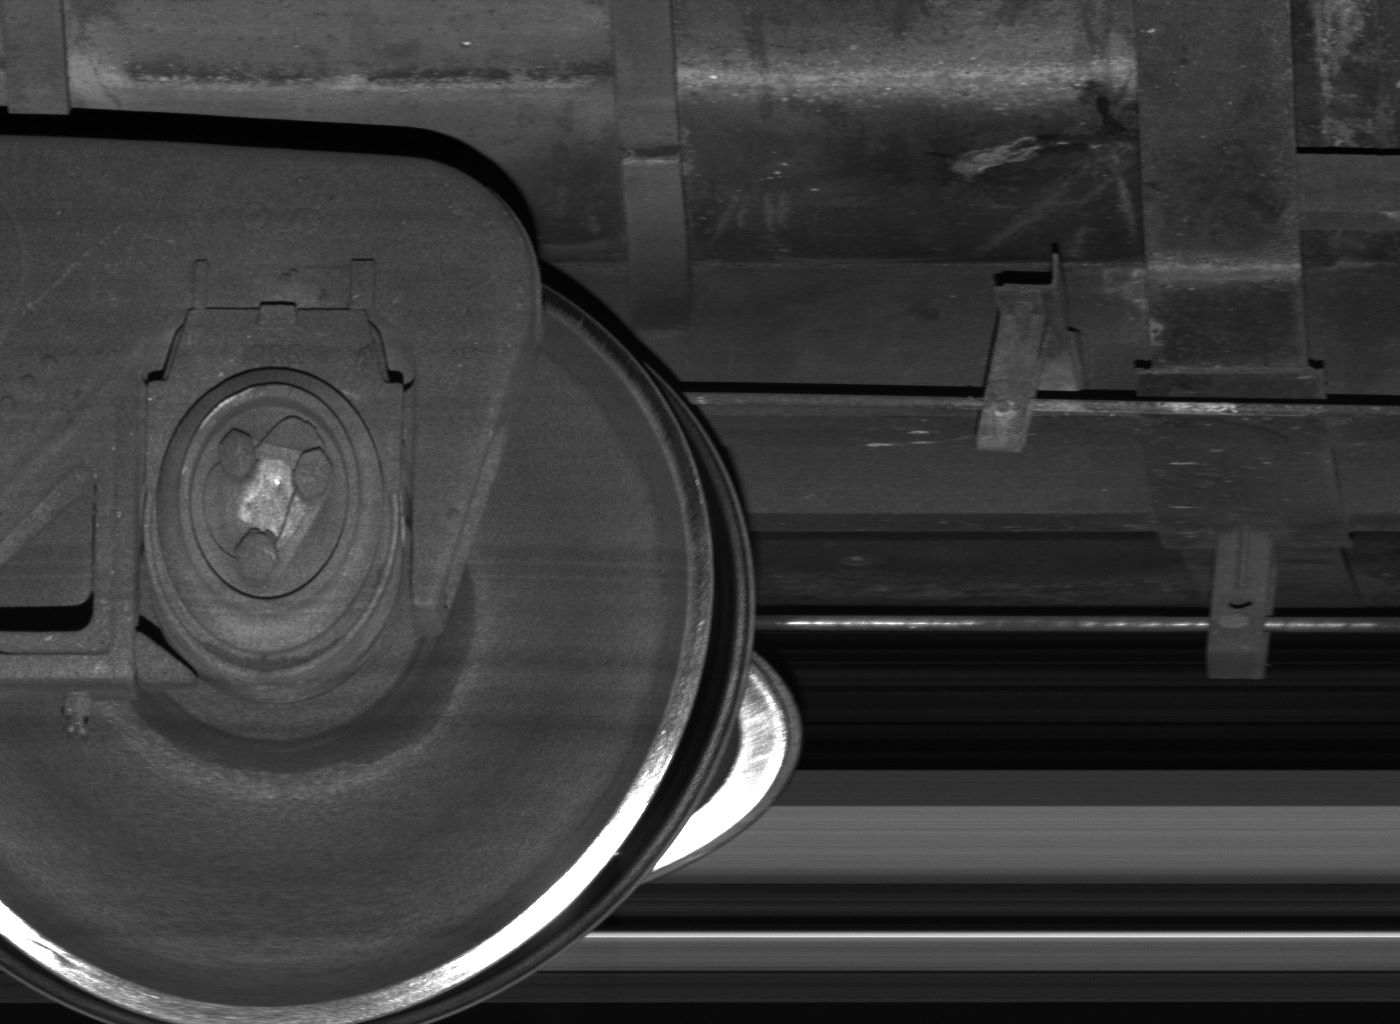normal: (976, 253, 1079, 451)
